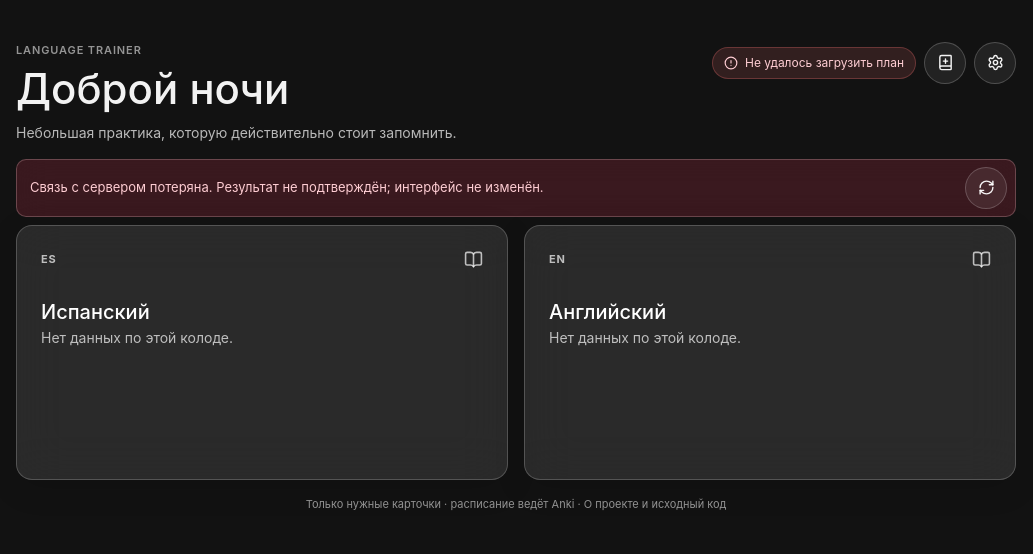
Scenario: Today plan status › keeps the network error explanation and clears the error after a successful retry
Check: the element labelled "Не удалось загрузить план" is shown, box [712,47,916,79]
Check: the text "Связь с сервером потеряна" is shown, box [30,179,544,195]
Click the button named "Повторить загрузку". click: (986, 188)
box: [965,167,1007,209]
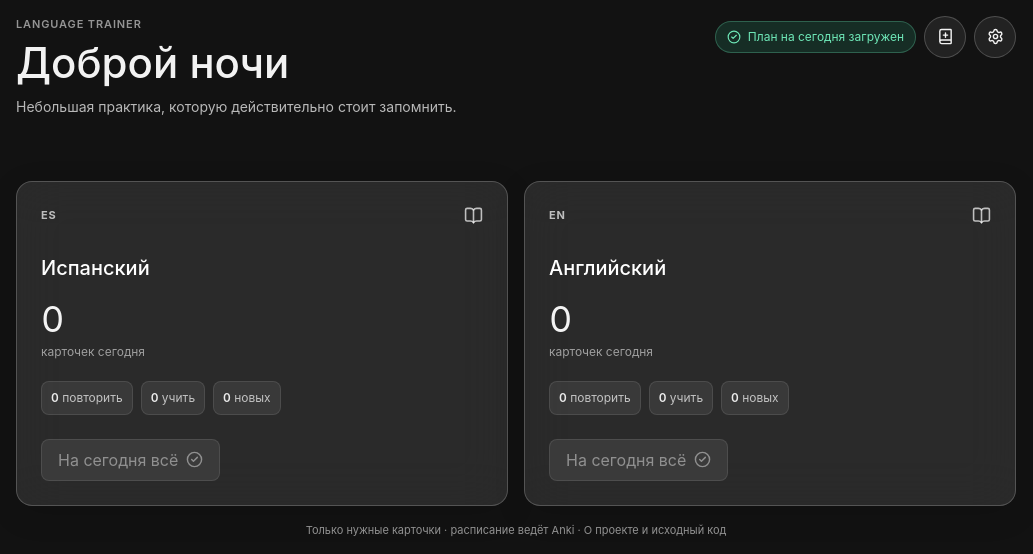
Check: the element labelled "План на сегодня загружен" is shown, box [715,21,916,53]
Check: the text "Связь с сервером потеряна" is gone
